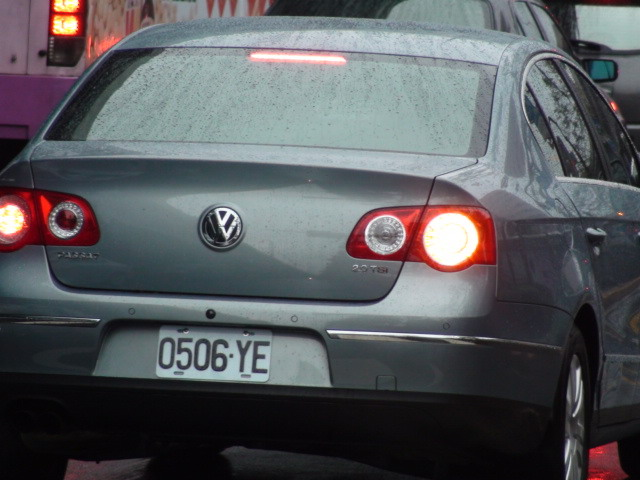plate: (151, 323, 277, 387)
